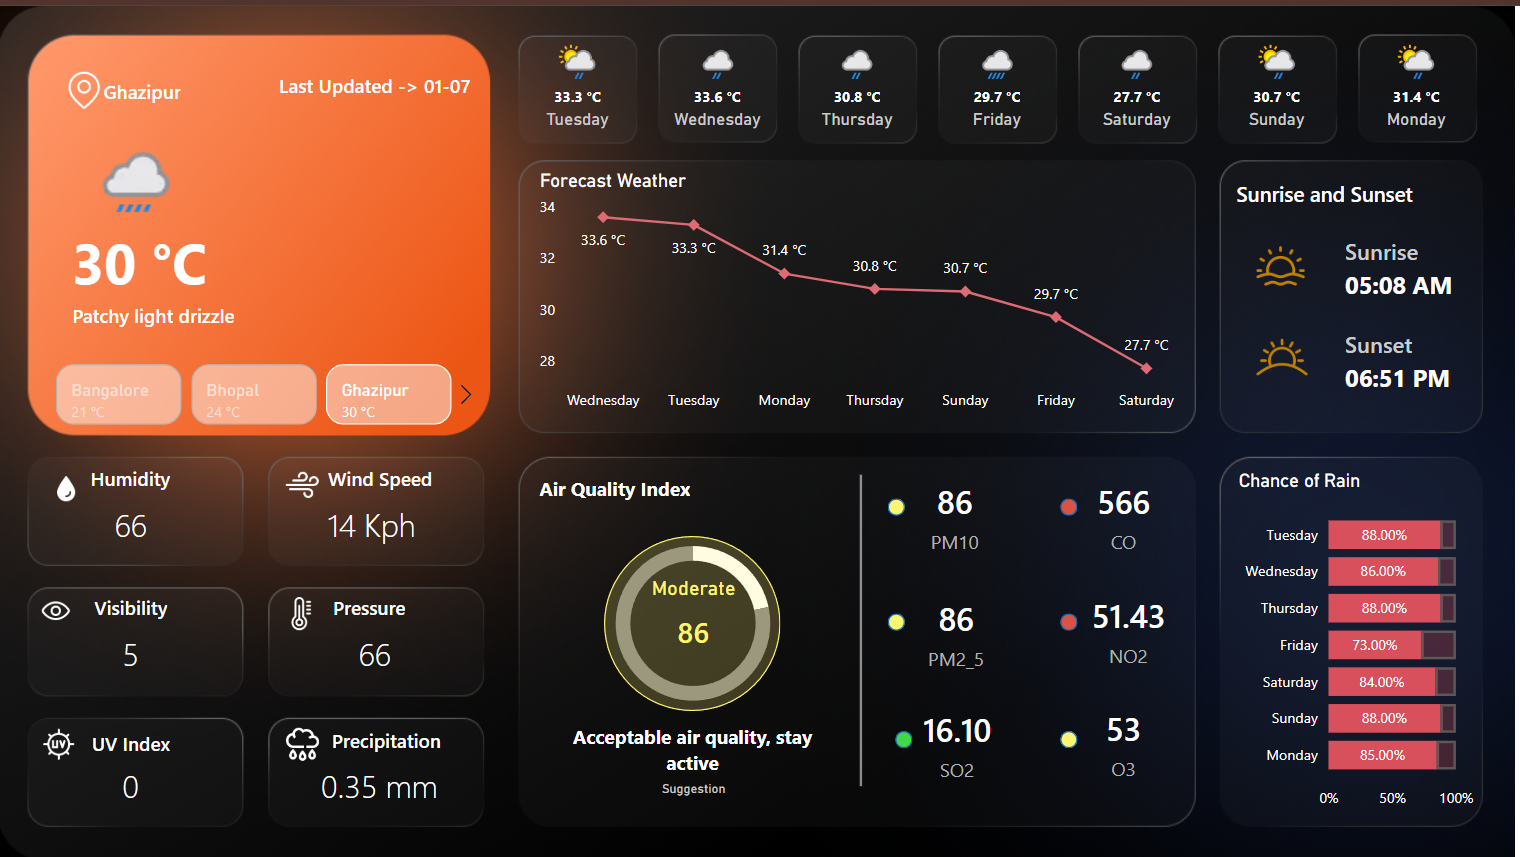

What the dashboard file says about the page in this screenshot:
{"tool":"powerbi","page":{"name":"Weather","canvas":[1280,720],"ordinal":0},"visuals":[{"type":"donutChart","fields":{"Y":["Sum(Current.current.air_quality.pm10)","_Measures.Left_value"]},"box":[497.3,434.3,178,173.2],"z":0},{"type":"shape","box":[511.1,446.9,149,147.8],"z":1000},{"type":"advancedSlicerVisual","fields":{"Values":["Location.location.name"]},"box":[23.4,297.9,386.5,61.6],"z":2000},{"type":"shape","box":[56.9,179.3,218,69],"z":3000},{"type":"shape","box":[58.1,235,204.7,50.9],"z":4000},{"type":"shape","box":[216.8,41.2,185.3,50.9],"z":5000},{"type":"shape","box":[84.8,46,151.4,50.9],"z":6000},{"type":"image","box":[50.9,50.9,42.4,41.2],"z":7000},{"type":"cardVisual","fields":{"Data":["Min(Current.current.condition.icon)"]},"box":[54.5,83.6,116.3,123.5],"z":8000},{"type":"shape","box":[75.1,382.8,185.9,32],"z":9000},{"type":"image","box":[20.9,491.2,54.2,38.2],"z":10000},{"type":"shape","box":[77.6,491.2,185.9,32],"z":11000},{"type":"shape","box":[76.3,606.9,185.9,32],"z":12000},{"type":"shape","box":[275.7,382.8,185.9,32],"z":13000},{"type":"shape","box":[279.8,491.8,90.8,31.5],"z":14000},{"type":"shape","box":[278.2,603.2,185.9,32],"z":15000},{"type":"image","box":[35.7,391.5,41.9,32],"z":16000},{"type":"image","box":[32,603.2,38.2,39.4],"z":17000},{"type":"image","box":[236.4,382.8,39.4,41.9],"z":18000},{"type":"image","box":[236.4,491.2,38.2,41.9],"z":19000},{"type":"image","box":[233.9,600.7,44.3,45.5],"z":20000},{"type":"card","fields":{"Values":["Sum(Current.current.humidity)"]},"box":[64,414.9,93.6,49.2],"z":21000},{"type":"card","fields":{"Values":["Sum(Current.current.vis_km)"]},"box":[64,523.2,93.6,49.2],"z":22000},{"type":"card","fields":{"Values":["_Measures.WInd_speed"]},"box":[265.9,414.9,97.2,49.2],"z":23000},{"type":"card","fields":{"Values":["Sum(Current.current.humidity)"]},"box":[275.7,523.2,83.7,49.2],"z":24000},{"type":"card","fields":{"Values":["_Measures.rain_speed"]},"box":[262.2,635.2,116.9,49.2],"z":25000},{"type":"card","fields":{"Values":["Sum(Current.current.uv)"]},"box":[64,635.2,93.6,49.2],"z":26000},{"type":"advancedSlicerVisual","fields":{"Values":["Forcast_Day.Day_Name"]},"box":[428.4,20.9,830.9,100.9],"z":27000},{"type":"lineChart","title":"Forecast Weather","fields":{"Category":["Forcast_Day.Day_Name"],"Y":["Sum(Forcast_Day.forecast.forecastday.day.avgtemp_c)"]},"box":[451.8,137.9,552.7,213],"z":28000},{"type":"shape","box":[1041.4,137.9,195.7,40.6],"z":29000},{"type":"shape","box":[1132.5,206.8,126.8,55.4],"z":30000},{"type":"shape","box":[1132.5,285.6,126.8,55.4],"z":31000},{"type":"shape","box":[1132.5,179.7,126.8,55.4],"z":32000},{"type":"shape","box":[1132.5,257.3,126.8,55.4],"z":33000},{"type":"image","box":[1041.4,194.5,80,50.5],"z":34000},{"type":"image","box":[1041.4,262.2,83.7,67.7],"z":35000},{"type":"hundredPercentStackedBarChart","title":"Chance of Rain","fields":{"Category":["Forcast_Day.Day_Name"],"Y":["Sum(Forcast_Day.forecast.forecastday.day.daily_chance_of_rain)","_Measures.Left_value_rain"]},"box":[1041.3,391.2,208.5,295.2],"z":36000},{"type":"card","fields":{"Values":["Sum(Current.current.air_quality.co)"]},"box":[914.2,391.2,71.5,77.5],"z":37000},{"type":"card","fields":{"Values":["Sum(Current.current.air_quality.so2)"]},"box":[766.7,585,83.6,76.3],"z":38000},{"type":"card","fields":{"Values":["Sum(Current.current.air_quality.o3)"]},"box":[910.8,582.6,77.5,79.9],"z":39000},{"type":"card","fields":{"Values":["Sum(Current.current.air_quality.no2)"]},"box":[914.5,488.1,77.5,76.3],"z":40000},{"type":"card","fields":{"Values":["Sum(Current.current.air_quality.pm10)"]},"box":[764.3,391.2,86,77.5],"z":41000},{"type":"card","fields":{"Values":["Sum(Current.current.air_quality.pm2_5)"]},"box":[772.8,493,71.5,72.7],"z":42000},{"type":"shape","box":[454.2,390,185.3,32.7],"z":43000},{"type":"shape","box":[749.7,415.4,14.5,14.5],"z":44000},{"type":"shape","box":[749.7,512.3,14.5,14.5],"z":45000},{"type":"shape","box":[896.3,512.3,14.5,14.5],"z":46000},{"type":"shape","box":[757,611.7,14.5,14.5],"z":47000},{"type":"shape","box":[896.3,415.4,14.5,14.5],"z":48000},{"type":"shape","box":[896.3,611.7,14.5,14.5],"z":49000},{"type":"shape","box":[669.8,396.1,115.1,262.8],"z":50000},{"type":"card","fields":{"Values":["Sum(Current.current.air_quality.pm10)"]},"box":[543.3,481.6,86,77.5],"z":51000},{"type":"shape","box":[460.3,592.3,250.7,70.3],"z":52000},{"type":"shape","box":[494.2,644.4,185.3,32.7],"z":53000}]}

Visuals, with their boxes in screenshot pixels (x1, y1, x2, y2), scaled from the page's 1280x720 canvas onto the 1520x857 screenshot:
donutChart - Sum(Current.current.air_quality.pm10) x _Measures.Left_value: box(591, 517, 802, 723)
shape: box(607, 532, 784, 708)
advancedSlicerVisual - Location.location.name: box(28, 355, 487, 428)
shape: box(68, 213, 326, 296)
shape: box(69, 280, 312, 340)
shape: box(257, 49, 477, 110)
shape: box(101, 55, 280, 115)
image: box(60, 61, 111, 110)
cardVisual - Min(Current.current.condition.icon): box(65, 100, 203, 247)
shape: box(89, 456, 310, 494)
image: box(25, 585, 89, 630)
shape: box(92, 585, 313, 623)
shape: box(91, 722, 311, 760)
shape: box(327, 456, 548, 494)
shape: box(332, 585, 440, 623)
shape: box(330, 718, 551, 756)
image: box(42, 466, 92, 504)
image: box(38, 718, 83, 765)
image: box(281, 456, 328, 506)
image: box(281, 585, 326, 635)
image: box(278, 715, 330, 769)
card - Sum(Current.current.humidity): box(76, 494, 187, 552)
card - Sum(Current.current.vis_km): box(76, 623, 187, 681)
card - _Measures.WInd_speed: box(316, 494, 431, 552)
card - Sum(Current.current.humidity): box(327, 623, 427, 681)
card - _Measures.rain_speed: box(311, 756, 450, 815)
card - Sum(Current.current.uv): box(76, 756, 187, 815)
advancedSlicerVisual - Forcast_Day.Day_Name: box(509, 25, 1495, 145)
"Forecast Weather" lineChart: box(537, 164, 1193, 418)
shape: box(1237, 164, 1469, 212)
shape: box(1345, 246, 1495, 312)
shape: box(1345, 340, 1495, 406)
shape: box(1345, 214, 1495, 280)
shape: box(1345, 306, 1495, 372)
image: box(1237, 232, 1332, 292)
image: box(1237, 312, 1336, 393)
"Chance of Rain" hundredPercentStackedBarChart: box(1237, 466, 1484, 817)
card - Sum(Current.current.air_quality.co): box(1086, 466, 1171, 558)
card - Sum(Current.current.air_quality.so2): box(910, 696, 1010, 787)
card - Sum(Current.current.air_quality.o3): box(1082, 693, 1174, 789)
card - Sum(Current.current.air_quality.no2): box(1086, 581, 1178, 672)
card - Sum(Current.current.air_quality.pm10): box(908, 466, 1010, 558)
card - Sum(Current.current.air_quality.pm2_5): box(918, 587, 1003, 673)
shape: box(539, 464, 759, 503)
shape: box(890, 494, 907, 512)
shape: box(890, 610, 907, 627)
shape: box(1064, 610, 1082, 627)
shape: box(899, 728, 916, 745)
shape: box(1064, 494, 1082, 512)
shape: box(1064, 728, 1082, 745)
shape: box(795, 471, 932, 784)
card - Sum(Current.current.air_quality.pm10): box(645, 573, 747, 665)
shape: box(547, 705, 844, 789)
shape: box(587, 767, 807, 806)
